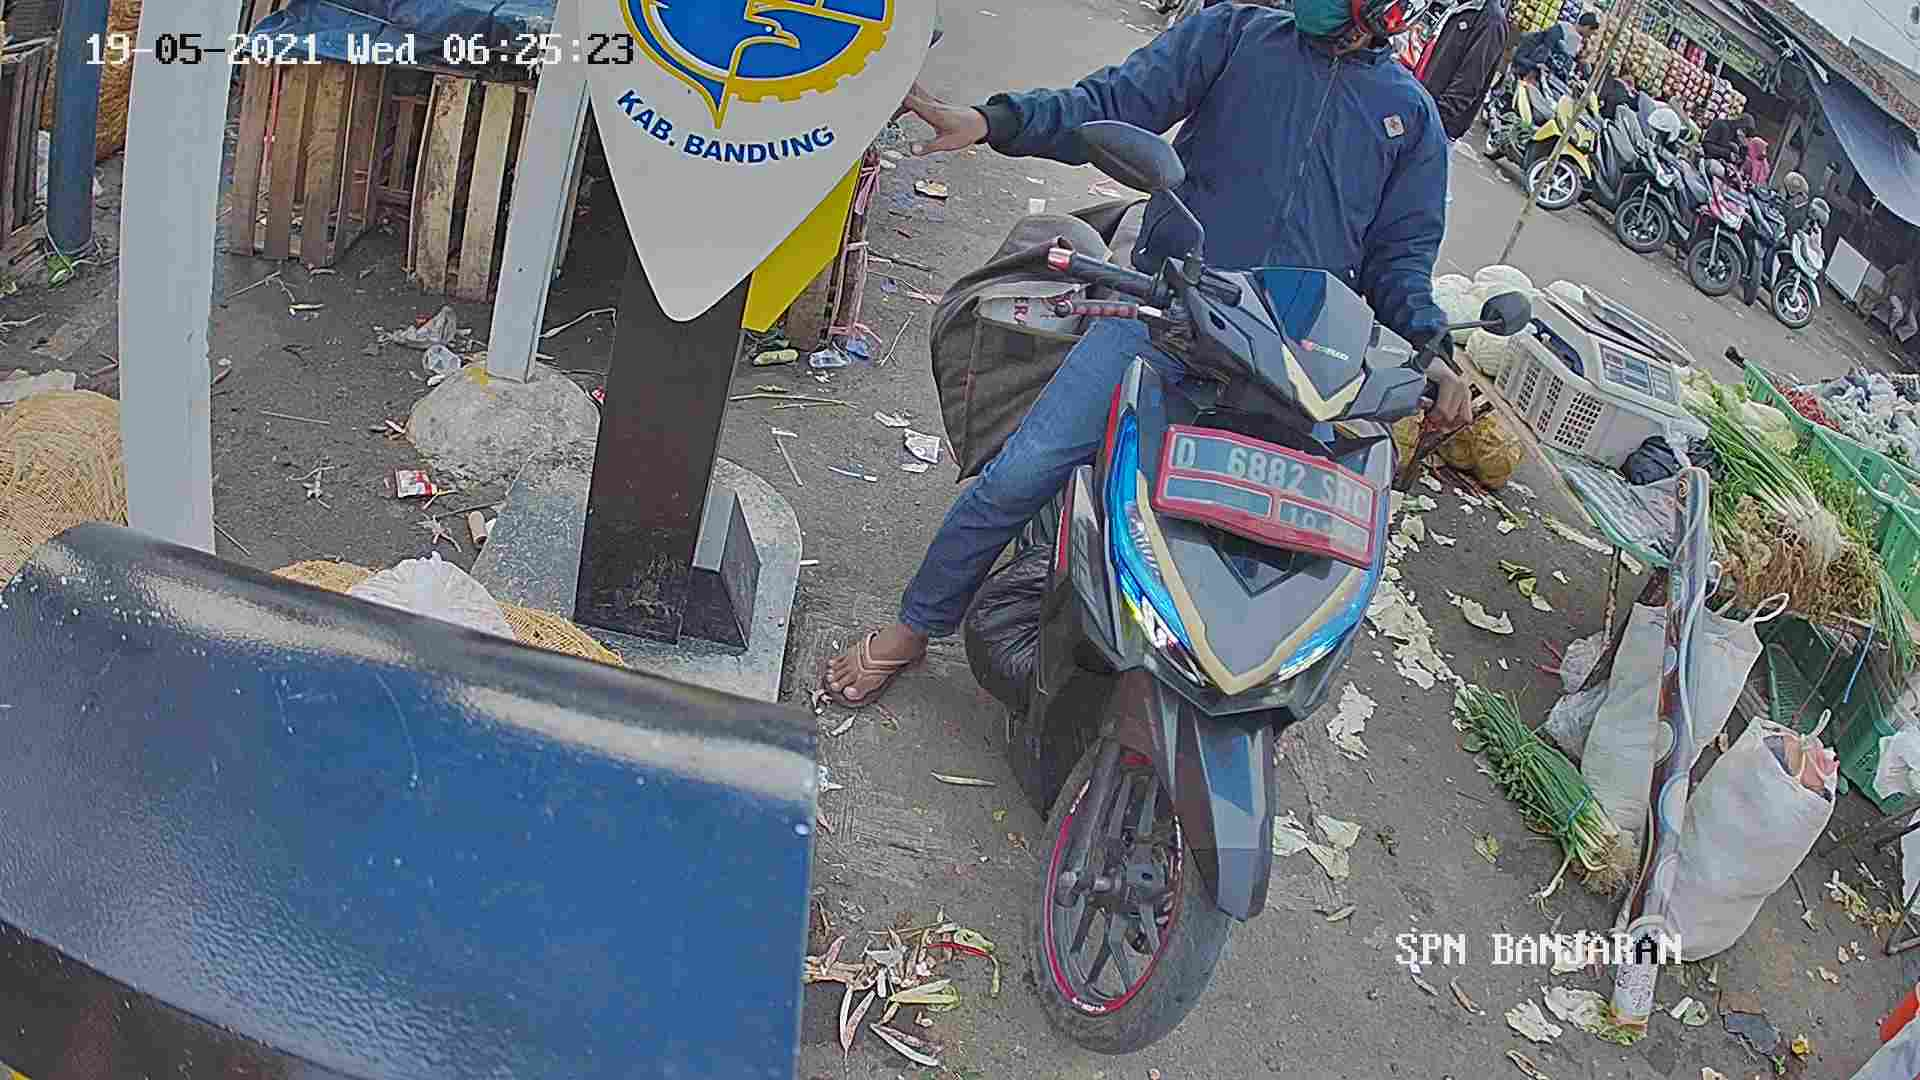motor: (1000, 222, 1399, 1054)
